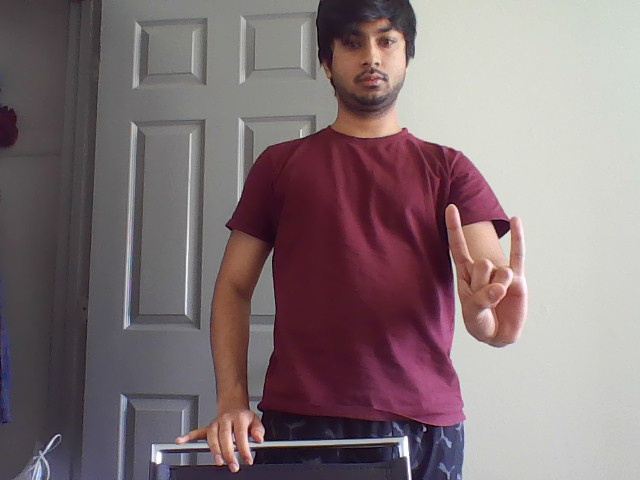help: (433, 195, 541, 295)
